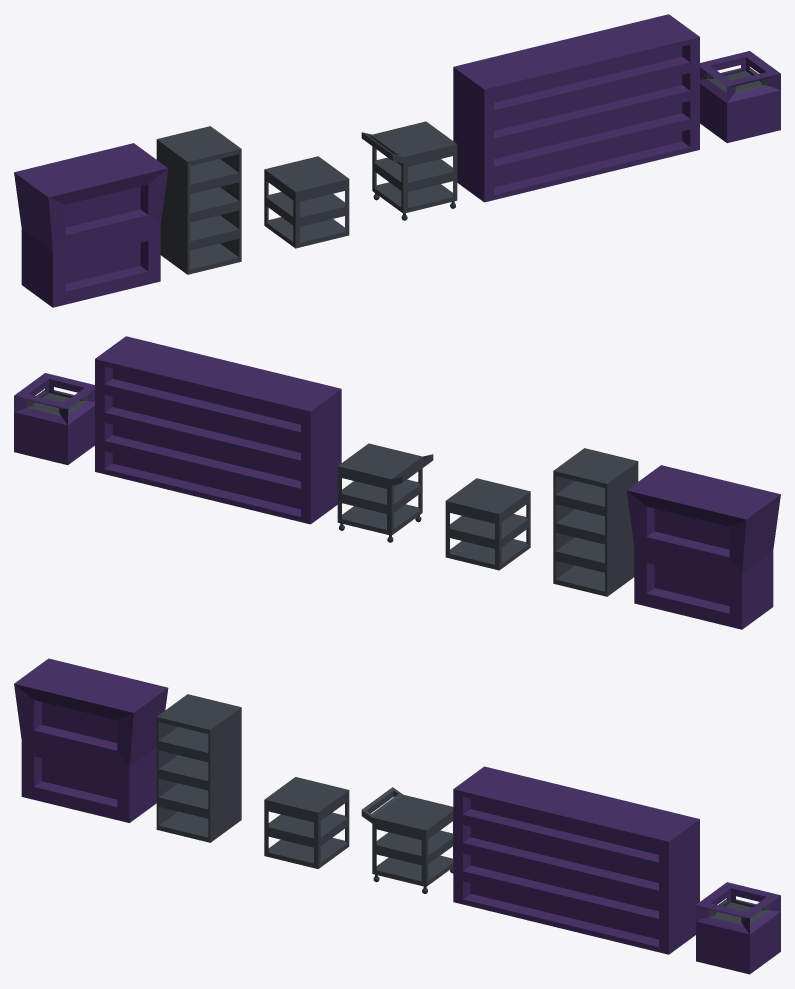
Rendered from FBX Shelves.fbx.
The picture shows the model from 3 angles, top to bottom: view 1: azimuth 30°, elevation 25°; view 2: azimuth 150°, elevation 25°; view 3: azimuth 330°, elevation 25°; orthographic projection.
Visible parts, largest first — view 1: Long Bookshelf, Warped Bookshelf, Tall Metal Shelf, Metal Cart, Small Metal Shelf, Display Case; view 2: Long Bookshelf, Warped Bookshelf, Tall Metal Shelf, Metal Cart, Small Metal Shelf, Display Case; view 3: Long Bookshelf, Warped Bookshelf, Tall Metal Shelf, Metal Cart, Display Case, Small Metal Shelf.
Part boxes in pixels (bbox=[...]): Long Bookshelf: bbox=[453, 14, 699, 202]; Warped Bookshelf: bbox=[14, 143, 168, 307]; Tall Metal Shelf: bbox=[156, 126, 241, 274]; Metal Cart: bbox=[361, 121, 457, 220]; Small Metal Shelf: bbox=[264, 156, 349, 248]; Display Case: bbox=[700, 51, 780, 143]; Long Bookshelf: bbox=[95, 336, 341, 524]; Warped Bookshelf: bbox=[626, 465, 780, 629]; Tall Metal Shelf: bbox=[553, 448, 638, 596]; Metal Cart: bbox=[337, 443, 433, 542]; Small Metal Shelf: bbox=[445, 478, 530, 570]; Display Case: bbox=[14, 373, 94, 465]; Long Bookshelf: bbox=[453, 766, 699, 954]; Warped Bookshelf: bbox=[14, 658, 168, 822]; Tall Metal Shelf: bbox=[156, 694, 241, 842]; Metal Cart: bbox=[361, 787, 453, 893]; Display Case: bbox=[696, 882, 780, 974]; Small Metal Shelf: bbox=[264, 777, 349, 868].
Bounding box in the file's own units: 222 × 2722 × 400.
